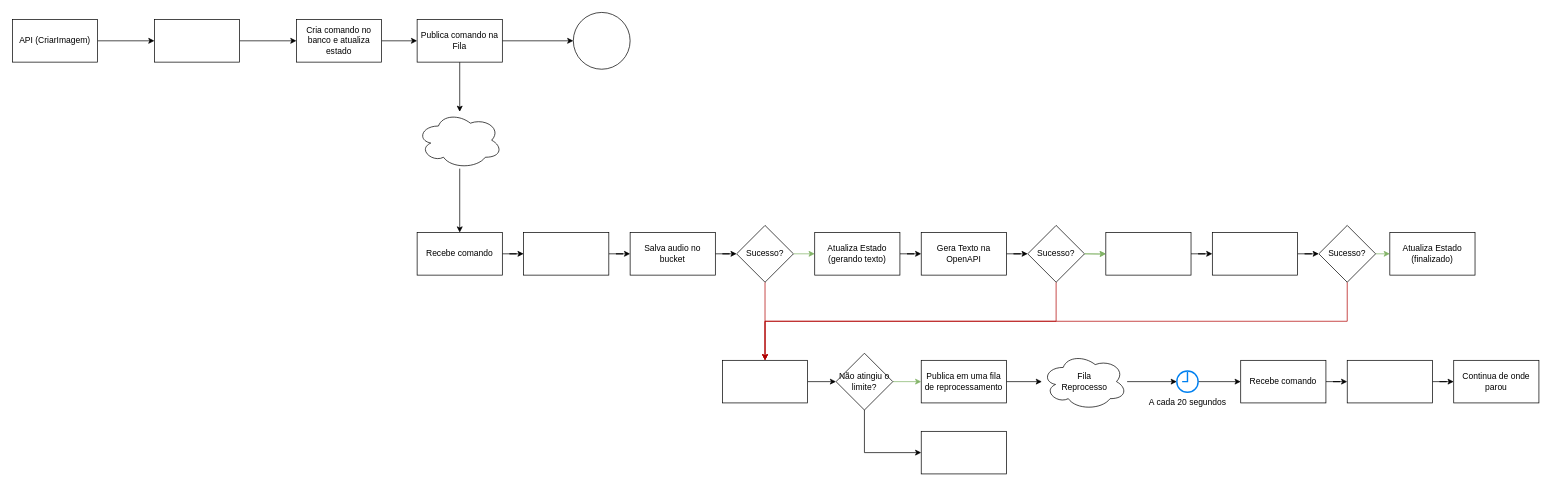
Image size: 1551x486. Some labels were removed from this diagram. The shapes that lost their labels are listed below. From the top down, each one's centre as x and y in pixels, then its label:
point 197,40: Gera Id
point 601,40: Retorna ID
point 459,140: Fila
point 566,253: Atualiza Estado (salvando audio)
point 1148,253: Atualiza Estado (gerando imagem)
point 1255,253: Gera Imagem na OpenAPI
point 765,381: Atualiza mensagem de erro nessa etapa
point 1389,381: Salva no banco a partir de onde parou
point 963,452: Atualiza Estado (falha)
